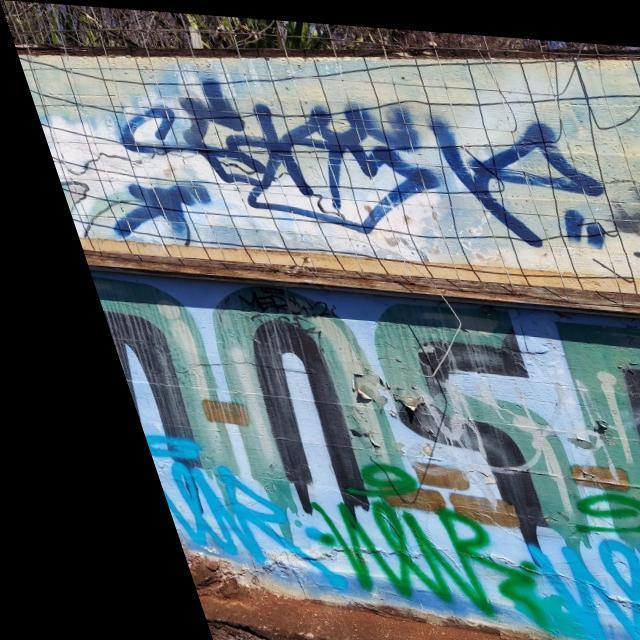-: (14, 51, 640, 304), (115, 428, 640, 640)
